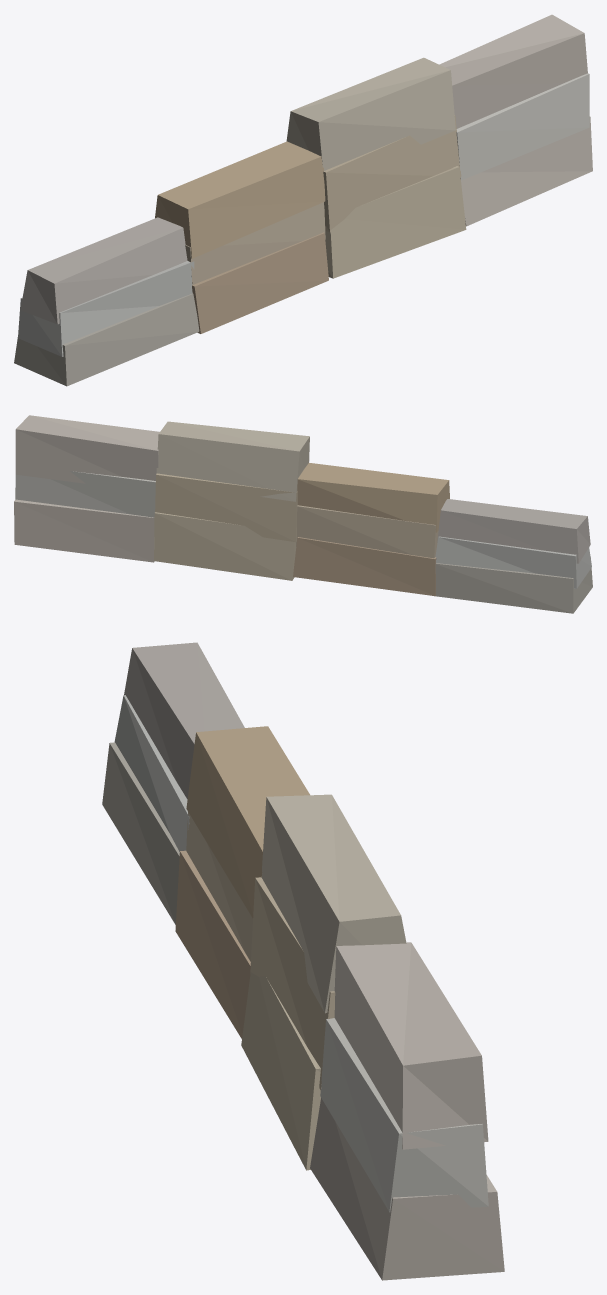
The model's file is farm_-2_9_mid.glb.
3 renders of one model, top to bottom at view 1: azimuth 30°, elevation 25°; view 2: azimuth 150°, elevation 25°; view 3: azimuth 270°, elevation 25°, orthographic. The views are drawn at different scales.
Visible parts, largest first — view 1: geometry_0; view 2: geometry_0; view 3: geometry_0.
Boxes of the visible parts, x1,y1,x2,y2 form: geometry_0: [14, 14, 592, 386]; geometry_0: [14, 415, 592, 613]; geometry_0: [102, 642, 504, 1280].
Size of the model in its own units: 6.31 by 1.49 by 2.19.
